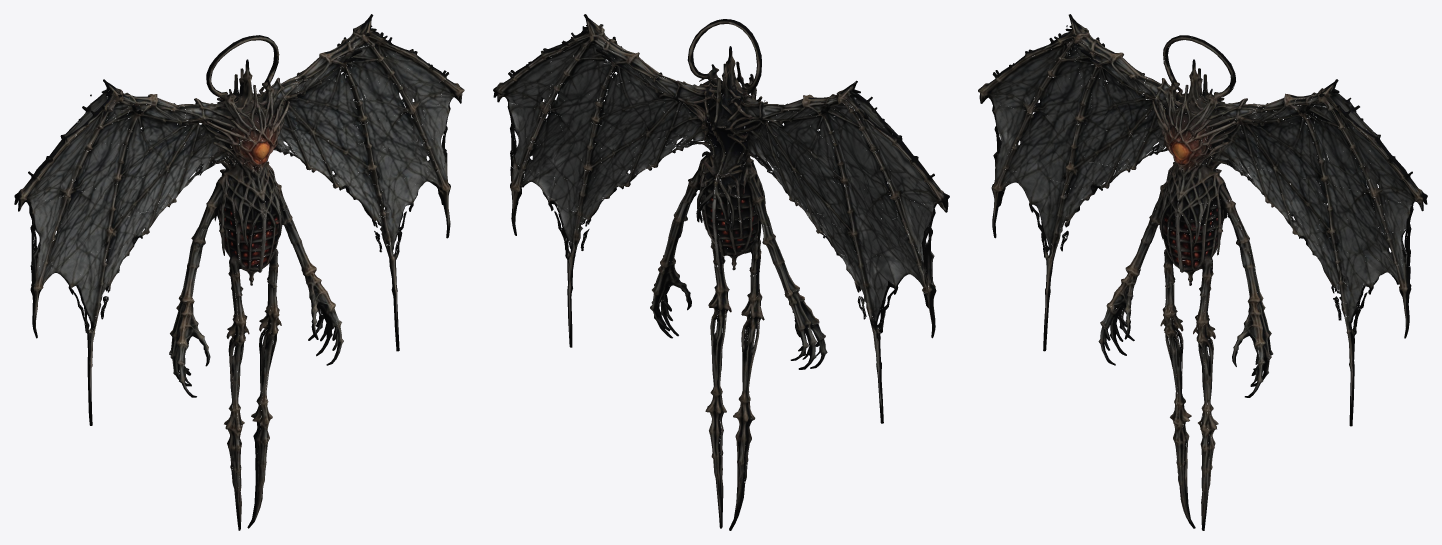
The model's file is celestial_static.glb.
3 views of the same model, side by side, from view 1: azimuth 30°, elevation 25°; view 2: azimuth 150°, elevation 25°; view 3: azimuth 330°, elevation 25° (orthographic).
Visible parts, largest first — view 1: Boss_Mesh; view 2: Boss_Mesh; view 3: Boss_Mesh.
Part boxes in pixels (bbox=[...]): Boss_Mesh: bbox=[14, 14, 464, 530]; Boss_Mesh: bbox=[493, 14, 949, 530]; Boss_Mesh: bbox=[978, 14, 1427, 530].
Size of the model in its own units: 3.76 by 4 by 0.5213.
1 material, 1 textured.
